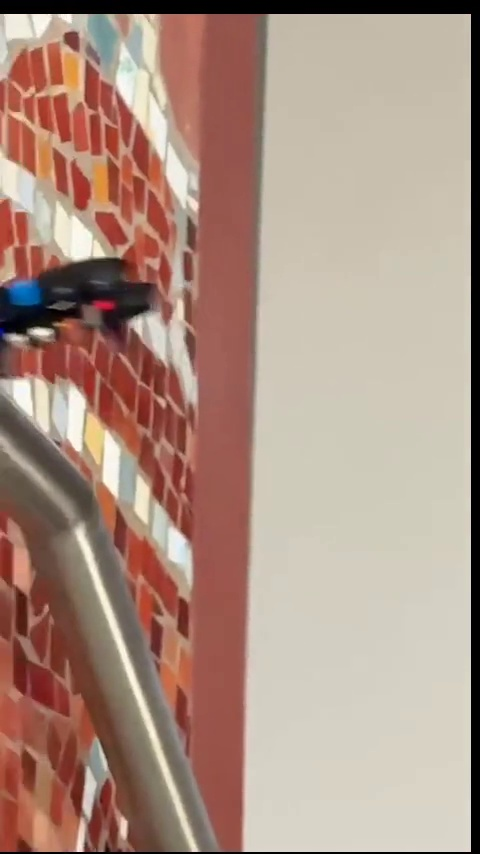drone: (0, 257, 155, 358)
